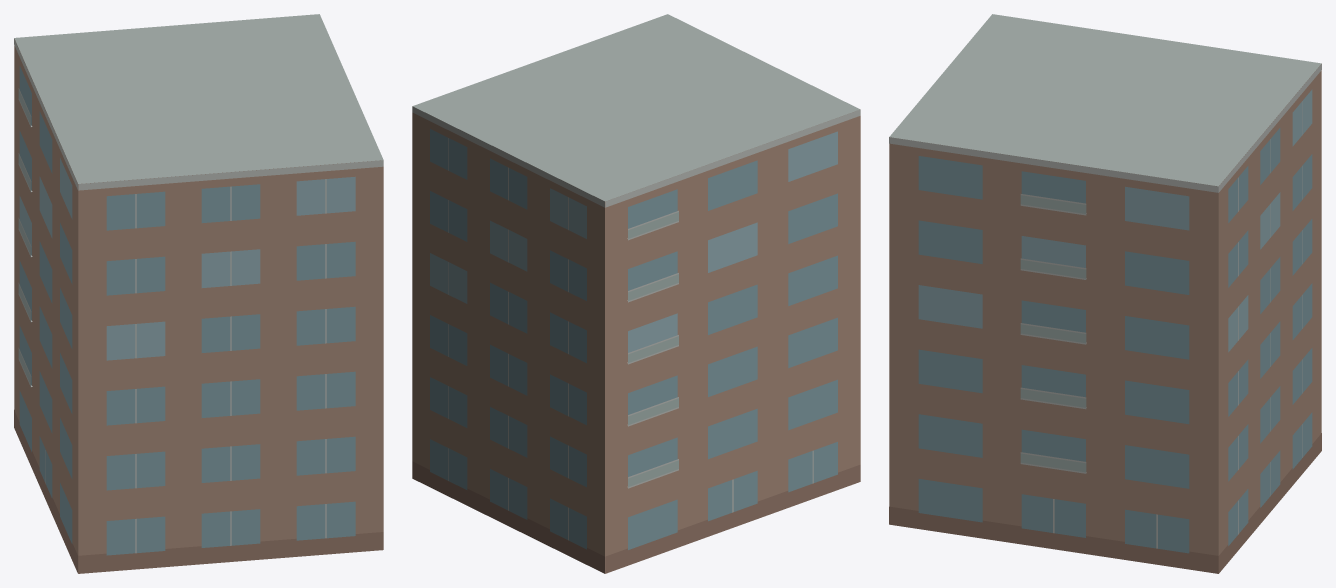
Rendered from survey-upis-32851842.glb.
The picture shows the model from 3 angles, left to right: view 1: azimuth 30°, elevation 25°; view 2: azimuth 150°, elevation 25°; view 3: azimuth 270°, elevation 25°; orthographic projection. The views are drawn at different scales.
Visible parts, largest first — view 1: survey-upis-32851842.tmp; view 2: survey-upis-32851842.tmp; view 3: survey-upis-32851842.tmp.
Part boxes in pixels (box(x1,y1,x2,y2)): survey-upis-32851842.tmp: box(14, 14, 383, 573); survey-upis-32851842.tmp: box(412, 14, 860, 573); survey-upis-32851842.tmp: box(889, 14, 1321, 573).
Bounding box in the file's own units: 13.84 × 14.5 × 14.68.
